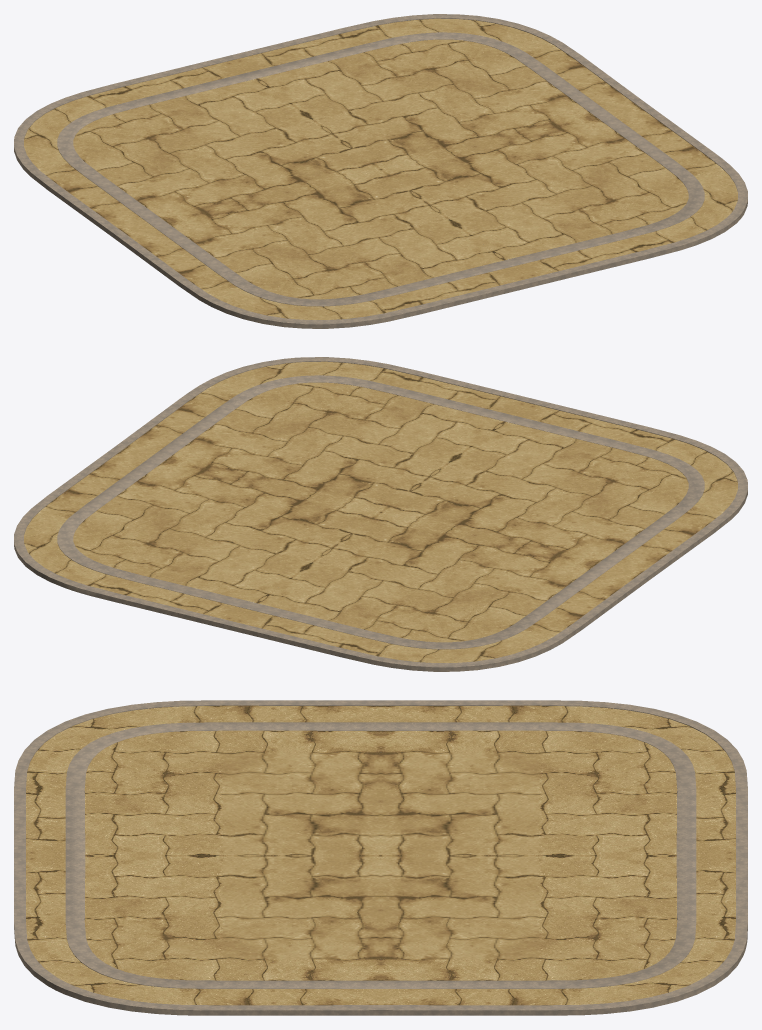
Rendered from ParkFootPath.fbx.
The picture shows the model from 3 angles, top to bottom: view 1: azimuth 30°, elevation 25°; view 2: azimuth 150°, elevation 25°; view 3: azimuth 270°, elevation 25°; orthographic projection. The views are drawn at different scales.
Visible parts, largest first — view 1: ParkFootPath; view 2: ParkFootPath; view 3: ParkFootPath.
Part boxes in pixels (x1,y1,x2,y2): ParkFootPath: (14,14,747,328); ParkFootPath: (14,357,747,671); ParkFootPath: (14,700,747,1015).
Size of the model in its own units: 2128 by 18.2 by 2128.
